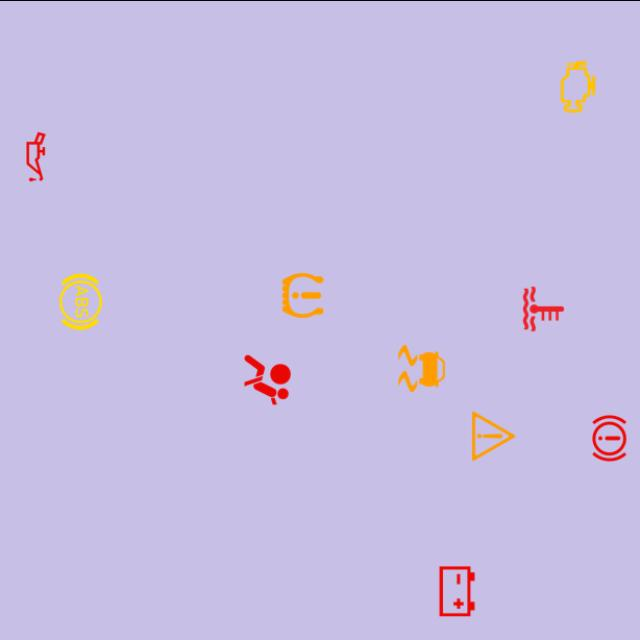Anti Lock Braking System: (50, 270, 112, 332)
Braking System Issue: (578, 407, 640, 469)
Charging System Issue: (426, 560, 488, 622)
Check Engine: (547, 55, 609, 117)
Electronic Stability Problem -ESP-: (390, 336, 452, 398)
Engine Overheating Warning Light: (512, 277, 574, 339)
Low Engine Oil Warning Light: (5, 125, 67, 187)
Low Tire Pressure Warning Light: (272, 264, 334, 326)
Master warning light: (462, 404, 524, 466)
SRS-Airbag: (236, 348, 298, 410)
